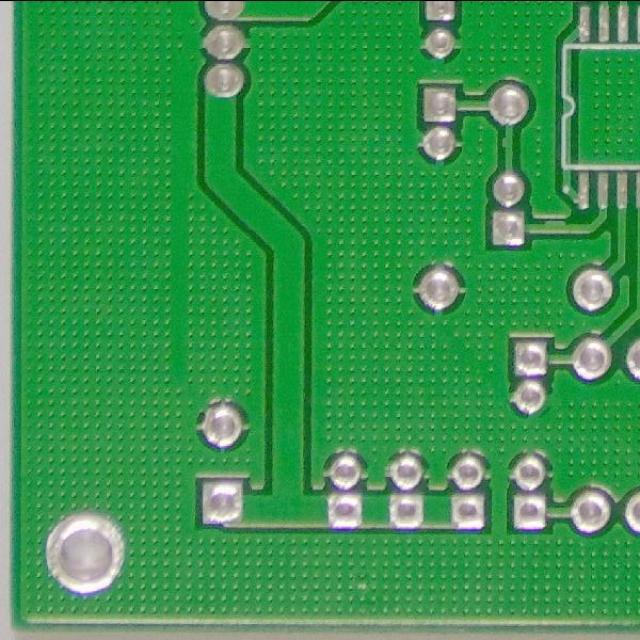Spur: (540, 218, 570, 239), (498, 132, 517, 153)
